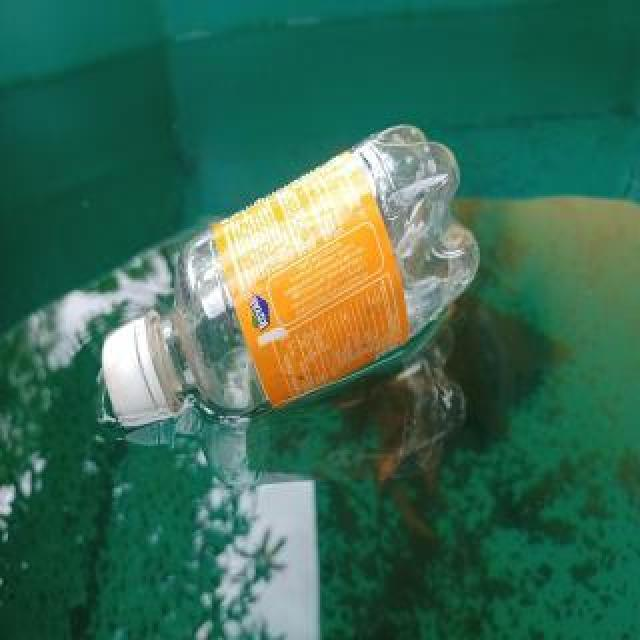bottle: (93, 115, 487, 433)
